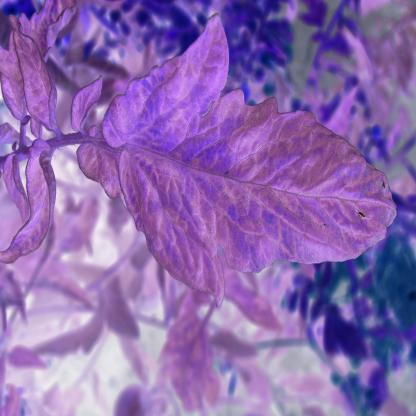Tomato leaf mosaic virus: (72, 23, 398, 319)
